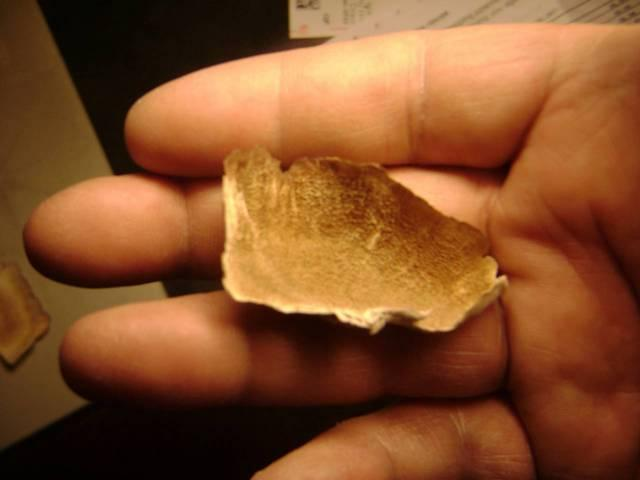Non-edible Mushroom: (218, 144, 508, 335)
